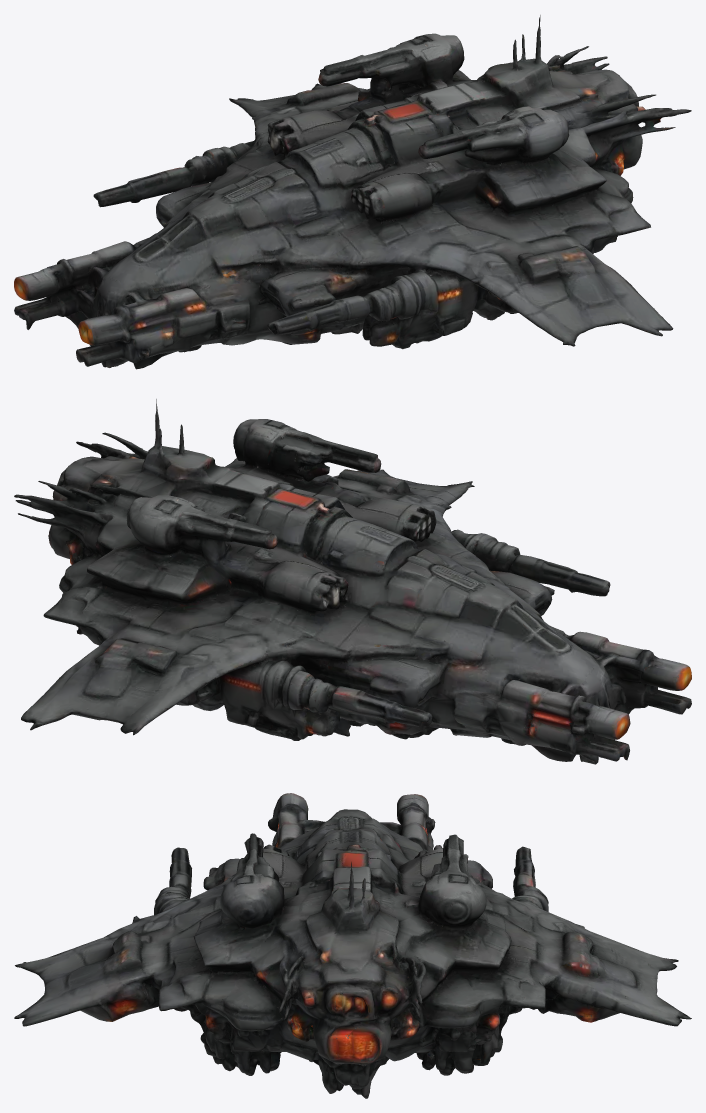
The model's file is bastion.glb.
3 views of the same model, one above another, from view 1: azimuth 30°, elevation 25°; view 2: azimuth 150°, elevation 25°; view 3: azimuth 270°, elevation 25° (orthographic). The views are drawn at different scales.
Bounding box in the file's own units: 2 × 0.8844 × 1.98.
1 material, 1 textured.
